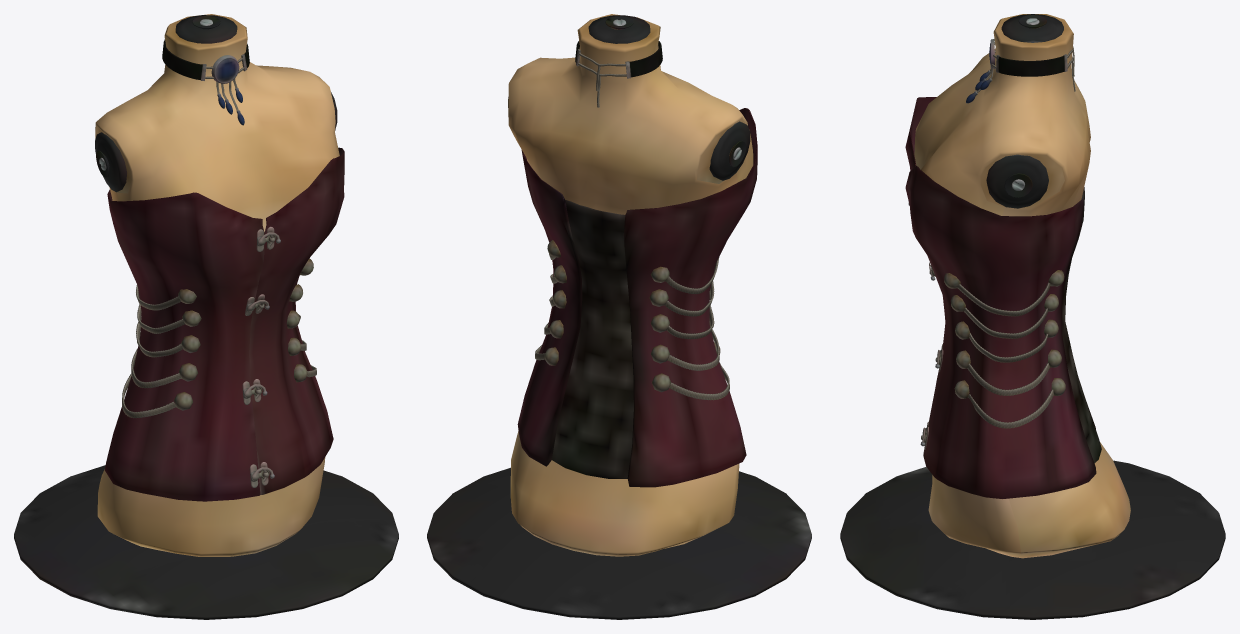
Rendered from clothe-small.glb.
The picture shows the model from 3 angles, left to right: view 1: azimuth 30°, elevation 25°; view 2: azimuth 150°, elevation 25°; view 3: azimuth 270°, elevation 25°; orthographic projection.
Visible parts, largest first — view 1: Corset; view 2: Corset; view 3: Corset.
Boxes of the visible parts, x1,y1,x2,y2 form: Corset: [14, 14, 398, 619]; Corset: [427, 14, 811, 619]; Corset: [840, 14, 1225, 619].
Size of the model in its own units: 0.0389 by 0.0578 by 0.0389.
Materials: 1 (1 with a texture image).
